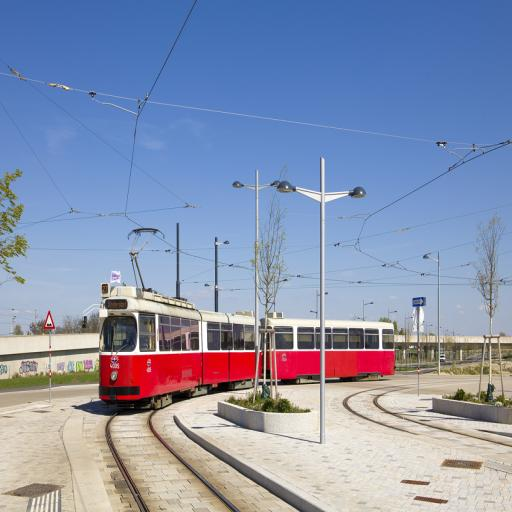E2-Tram: (97, 282, 394, 404)
